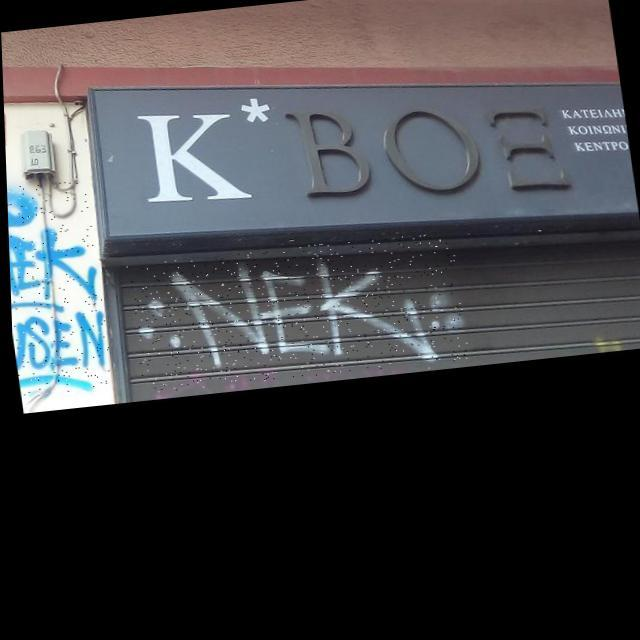-: (122, 230, 468, 393), (5, 176, 111, 396)
